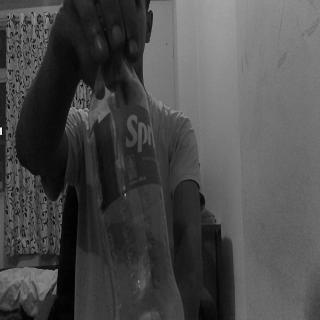plastic_bottles: (90, 24, 184, 320)
